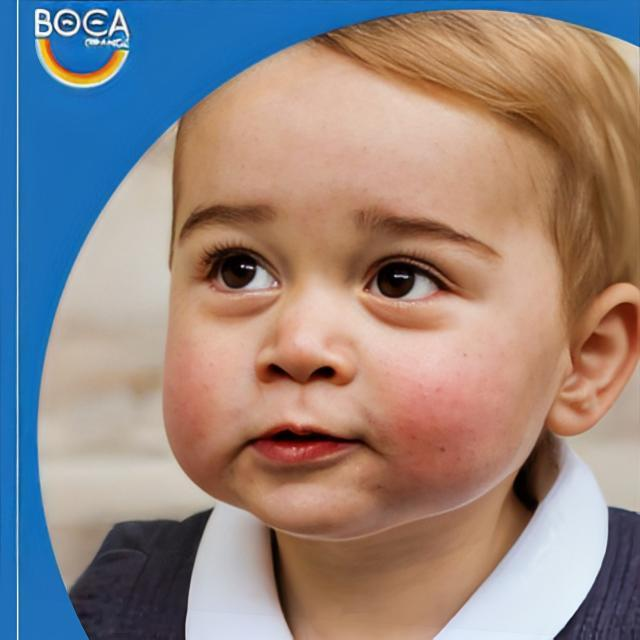surprise: (159, 35, 566, 542)
